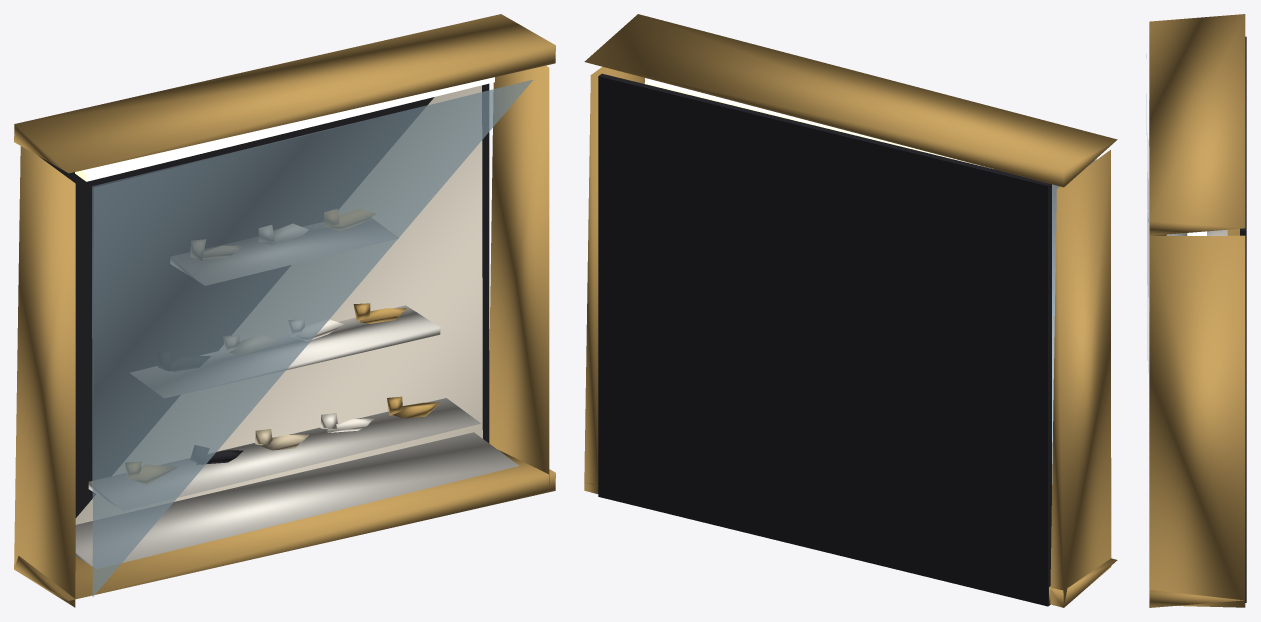
The model's file is lod_window_display_shoes.glb.
3 views of the same model, side by side, from view 1: azimuth 30°, elevation 25°; view 2: azimuth 150°, elevation 25°; view 3: azimuth 270°, elevation 25° (orthographic). The views are drawn at different scales.
Parts seen in each view (by area): view 1: window_display_shoes; view 2: window_display_shoes; view 3: window_display_shoes.
Boxes of the visible parts, bbox=[...] form: window_display_shoes: bbox=[14, 14, 555, 607]; window_display_shoes: bbox=[584, 14, 1117, 607]; window_display_shoes: bbox=[1146, 14, 1246, 607].
Bounding box in the file's own units: 2.98 × 2.61 × 0.6096.
